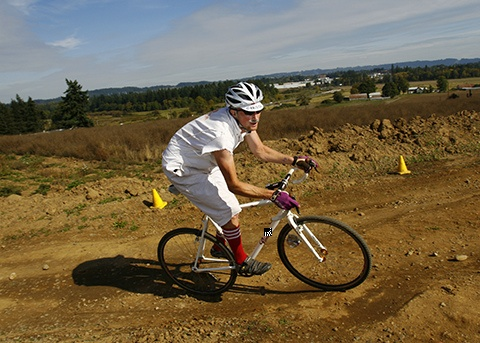car: (157, 158, 372, 299)
person: (163, 82, 317, 277)
